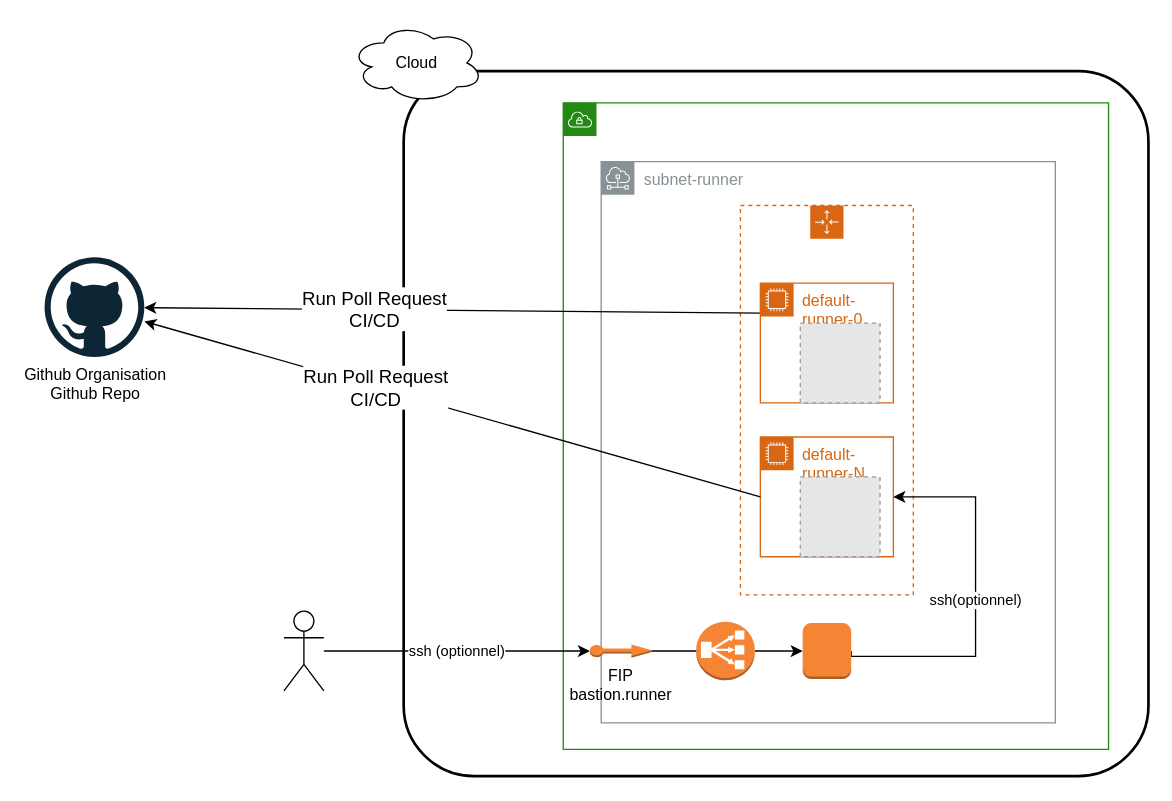
Image size: 1172x801. Some labels were removed from this diagram. Grey dashed boxes stand in for pictures. Here are the shapes that lost their labels. From the top down, the box of each, then its label:
(739, 204, 913, 595): Resource group
(562, 101, 1109, 749): Tenant dev
(801, 622, 851, 679): bastion.runner
